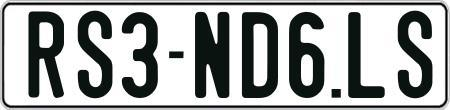3: (119, 10, 156, 102)
6: (287, 9, 327, 95)
D: (242, 11, 282, 97)
L: (345, 10, 384, 99)
N: (193, 10, 233, 101)
R: (28, 12, 69, 99)
S: (395, 9, 435, 101), (77, 11, 115, 101)
